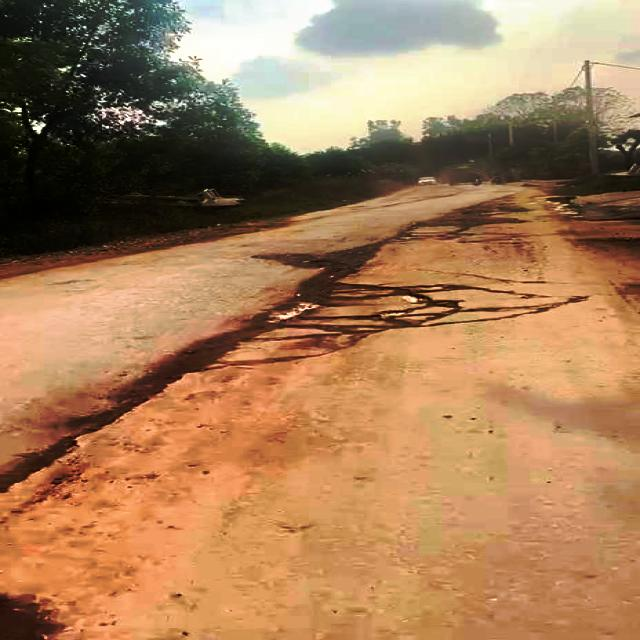pothole: (273, 276, 458, 336)
